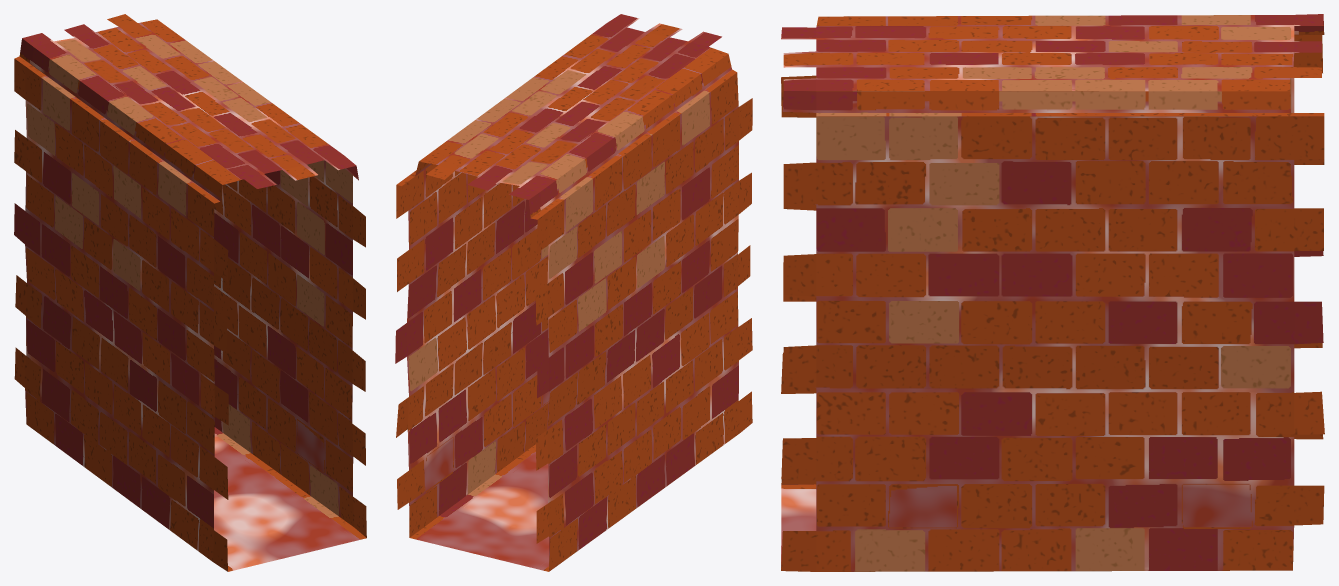
Rendered from Cimento_meio_upd.fbx.
The picture shows the model from 3 angles, left to right: view 1: azimuth 30°, elevation 25°; view 2: azimuth 150°, elevation 25°; view 3: azimuth 270°, elevation 25°; orthographic projection. The views are drawn at different scales.
Parts seen in each view (by area): view 1: Cimento_MEIO.L; view 2: Cimento_MEIO.L; view 3: Cimento_MEIO.L.
Part boxes in pixels (x1,y1,x2,y2): Cimento_MEIO.L: [14, 14, 366, 571]; Cimento_MEIO.L: [395, 14, 752, 571]; Cimento_MEIO.L: [781, 14, 1324, 571].
Bounding box in the file's own units: 103 × 260 × 269.
